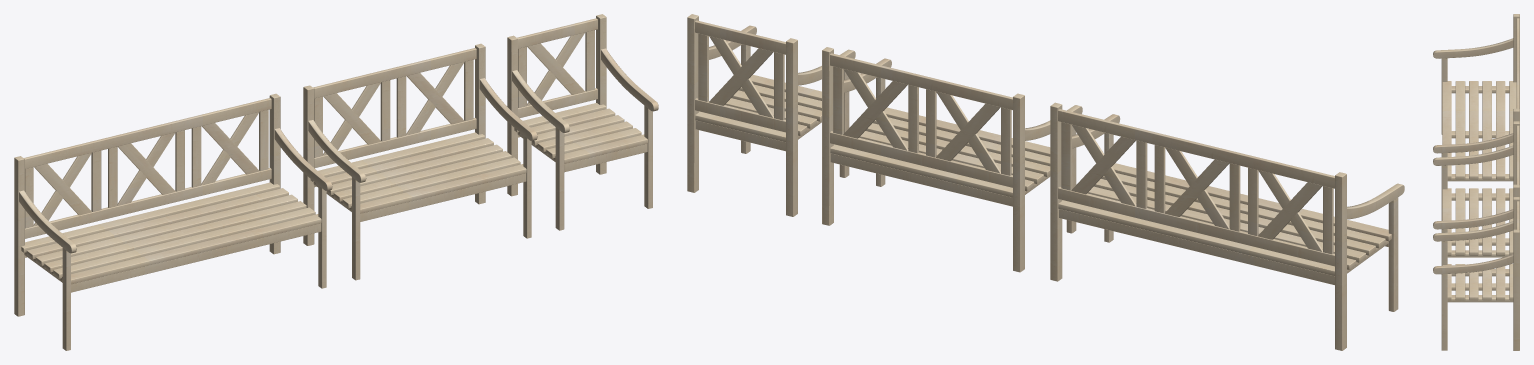
3 renders of one model, left to right at view 1: azimuth 30°, elevation 25°; view 2: azimuth 150°, elevation 25°; view 3: azimuth 270°, elevation 25°, orthographic. The views are drawn at different scales.
Visible parts, largest first — view 1: bench_3_bench_Kopengagen_0, bench_2_bench_Kopengagen_0, bench_1_bench_Kopengagen_0; view 2: bench_3_bench_Kopengagen_0, bench_2_bench_Kopengagen_0, bench_1_bench_Kopengagen_0; view 3: bench_3_bench_Kopengagen_0, bench_2_bench_Kopengagen_0, bench_1_bench_Kopengagen_0.
Part boxes in pixels (x1=…): bench_3_bench_Kopengagen_0: x1=14, y1=93, x2=332, y2=350; bench_2_bench_Kopengagen_0: x1=303, y1=43, x2=537, y2=280; bench_1_bench_Kopengagen_0: x1=507, y1=14, x2=658, y2=230; bench_3_bench_Kopengagen_0: x1=1050, y1=102, x2=1404, y2=350; bench_2_bench_Kopengagen_0: x1=822, y1=47, x2=1082, y2=272; bench_1_bench_Kopengagen_0: x1=687, y1=14, x2=855, y2=216; bench_3_bench_Kopengagen_0: x1=1433, y1=14, x2=1519, y2=181; bench_2_bench_Kopengagen_0: x1=1433, y1=121, x2=1519, y2=257; bench_1_bench_Kopengagen_0: x1=1433, y1=197, x2=1519, y2=350.
Bounding box in the file's own units: 3.59 × 0.91 × 0.6019.
1 material, 1 textured.
